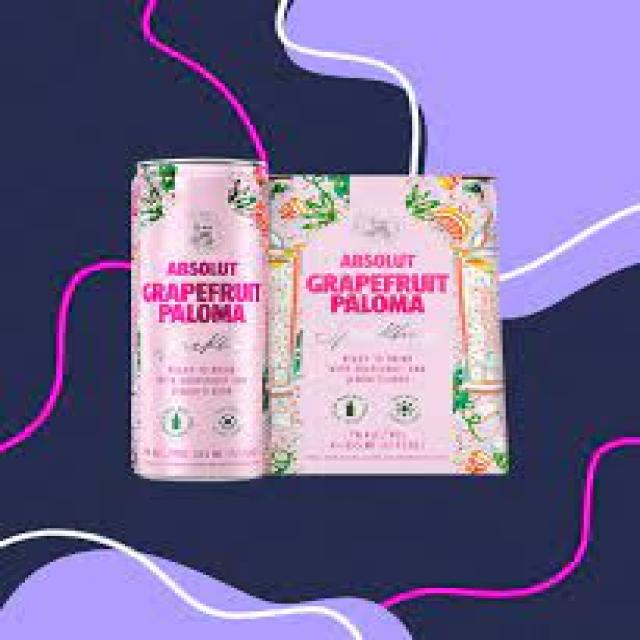Cans: (122, 146, 278, 489)
